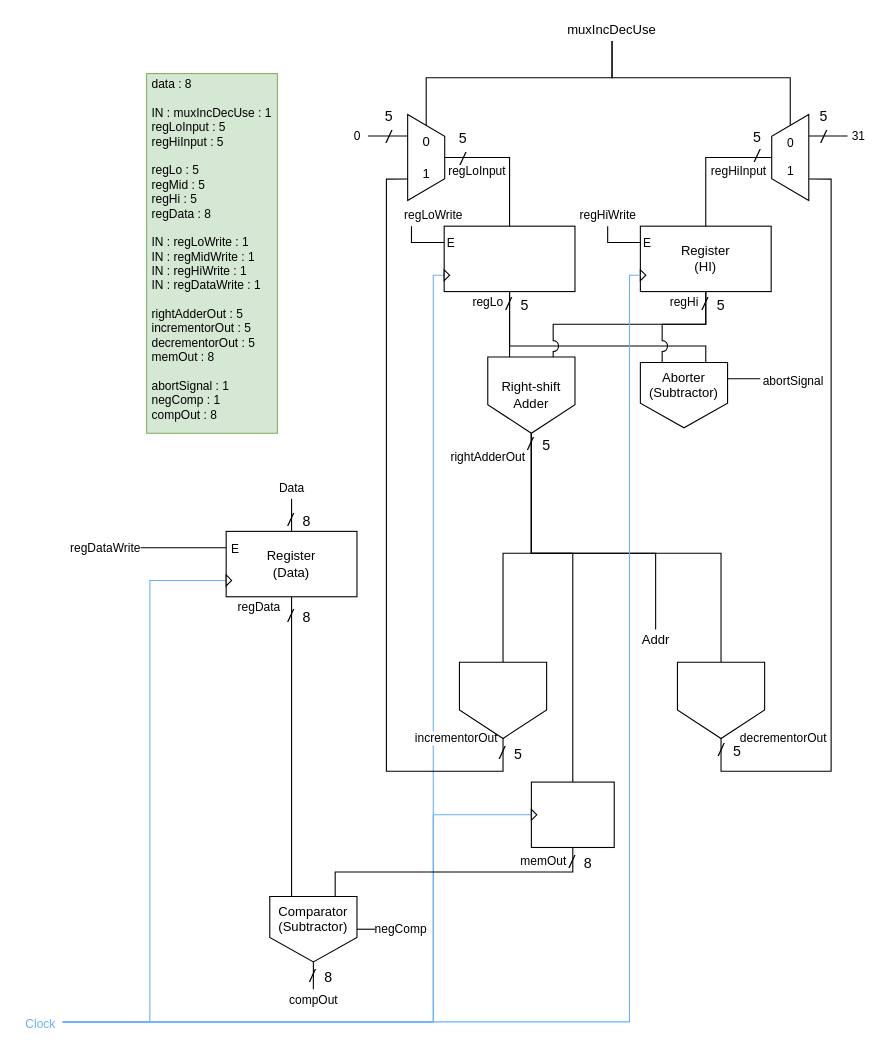
The diagram is 883 pixels wide and 1051 high, and some of its shapes have lost their labels. Each missing label, with the centre of its shape:
Decrementor: pixel 720 699
Incrementor: pixel 502 699
Memory: pixel 572 814
Register (LO): pixel 509 258
